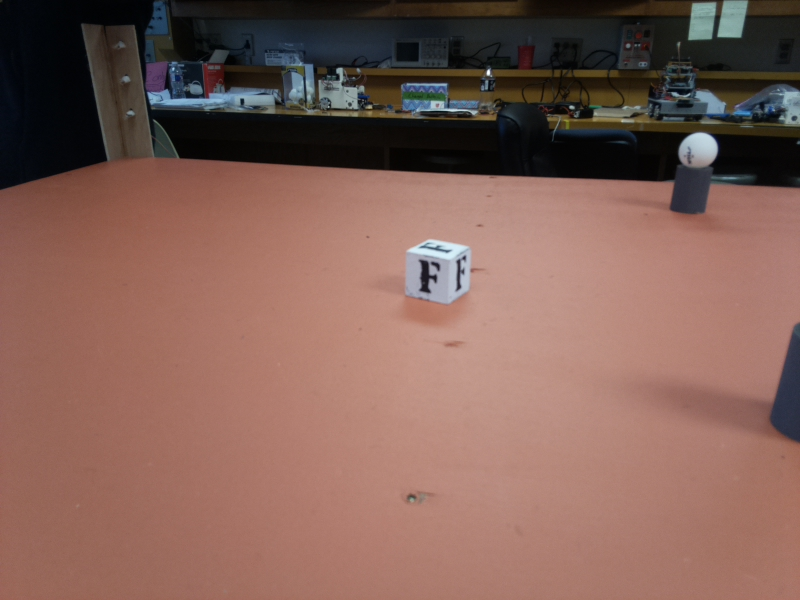blockF: (405, 240, 469, 308)
corner: (98, 25, 145, 156)
obstacle: (670, 134, 716, 213)
